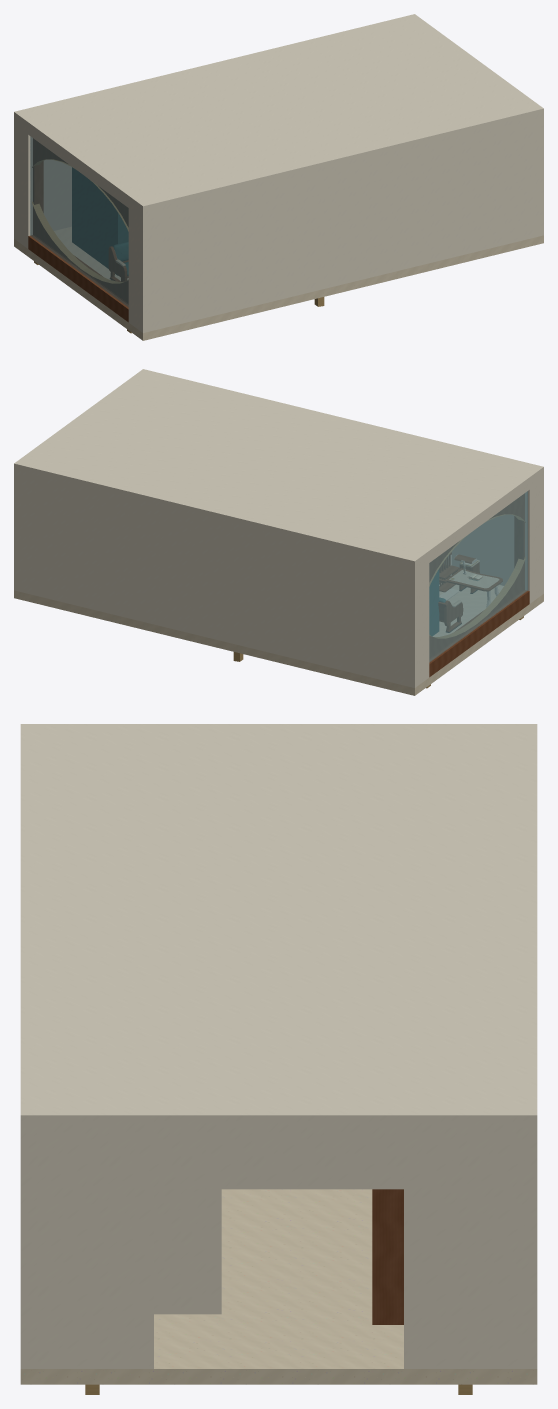
Rendered from QuietGroveBank_493_r001.glb.
3 renders of one model, top to bottom at view 1: azimuth 30°, elevation 25°; view 2: azimuth 150°, elevation 25°; view 3: azimuth 270°, elevation 25°, orthographic. The views are drawn at different scales.
Parts seen in each view (by area): view 1: QG493_Ceiling, QG493_SouthSide, QGB493_PrivateCourtGlass, QG493_RoomFloor, QG493_Cocoon_RearLiner, QGB493_CourtNorthPier, QGB493_CourtSouthPier, QG493_NorthSide, QGB493_CourtSill, QG493_OvalWindowReveal, QG493_OvalDepthReturn, QGB493_CourtHeader (+1 smaller); view 2: QG493_Ceiling, QG493_NorthSide, QGB493_PrivateCourtGlass, QG493_RoomFloor, QG493_SouthSide, QGB493_CourtSouthPier, QGB493_CourtNorthPier, QGB493_CourtSill, QG493_OvalWindowReveal, QG493_OvalDepthReturn, QGB493_CourtHeader, QGB493_DeepReveal_-302.99999999999994 (+2 smaller); view 3: QG493_Ceiling, QG493_RoomFloor, QG493_EntryShoulderNorth, QG493_EntryShoulderSouth, QG493_EntryHeader, QG493_WashEntrySide, QG493_EntryPrivacyDogleg, QG493_NorthSide, QG493_SouthSide.
Boxes of the visible parts, box(x1,y1,x2,y2) form: QG493_Ceiling: box(14, 14, 543, 211); QG493_SouthSide: box(141, 114, 543, 332); QGB493_PrivateCourtGlass: box(30, 136, 128, 307); QG493_RoomFloor: box(14, 227, 543, 340); QG493_Cocoon_RearLiner: box(73, 168, 116, 274); QGB493_CourtNorthPier: box(14, 119, 32, 248); QGB493_CourtSouthPier: box(128, 201, 150, 331); QG493_NorthSide: box(14, 117, 71, 239); QGB493_CourtSill: box(28, 235, 128, 322); QG493_OvalWindowReveal: box(34, 139, 128, 303); QG493_OvalDepthReturn: box(32, 159, 128, 283); QGB493_CourtHeader: box(28, 128, 128, 207); QG493_Ceiling: box(14, 369, 543, 566); QG493_NorthSide: box(14, 469, 416, 687); QGB493_PrivateCourtGlass: box(429, 491, 527, 662); QG493_RoomFloor: box(14, 585, 543, 695); QG493_SouthSide: box(448, 472, 543, 594); QGB493_CourtSouthPier: box(525, 474, 541, 603); QGB493_CourtNorthPier: box(407, 556, 429, 687); QGB493_CourtSill: box(429, 590, 529, 677); QG493_OvalWindowReveal: box(429, 494, 523, 658); QG493_OvalDepthReturn: box(429, 514, 525, 638); QGB493_CourtHeader: box(429, 483, 529, 562); QGB493_DeepReveal_-302.99999999999994: box(514, 493, 524, 589); QG493_Ceiling: box(20, 724, 537, 1125); QG493_RoomFloor: box(20, 1189, 537, 1384); QG493_EntryShoulderNorth: box(404, 1125, 528, 1368); QG493_EntryShoulderSouth: box(29, 1125, 153, 1368); QG493_EntryHeader: box(150, 1125, 407, 1189); QG493_WashEntrySide: box(154, 1189, 221, 1314); QG493_EntryPrivacyDogleg: box(372, 1189, 403, 1324); QG493_NorthSide: box(528, 1125, 537, 1368); QG493_SouthSide: box(20, 1125, 29, 1368).
Bounding box in the file's own units: 12.9 × 4.91 × 7.2.
58 materials, 43 textured.
